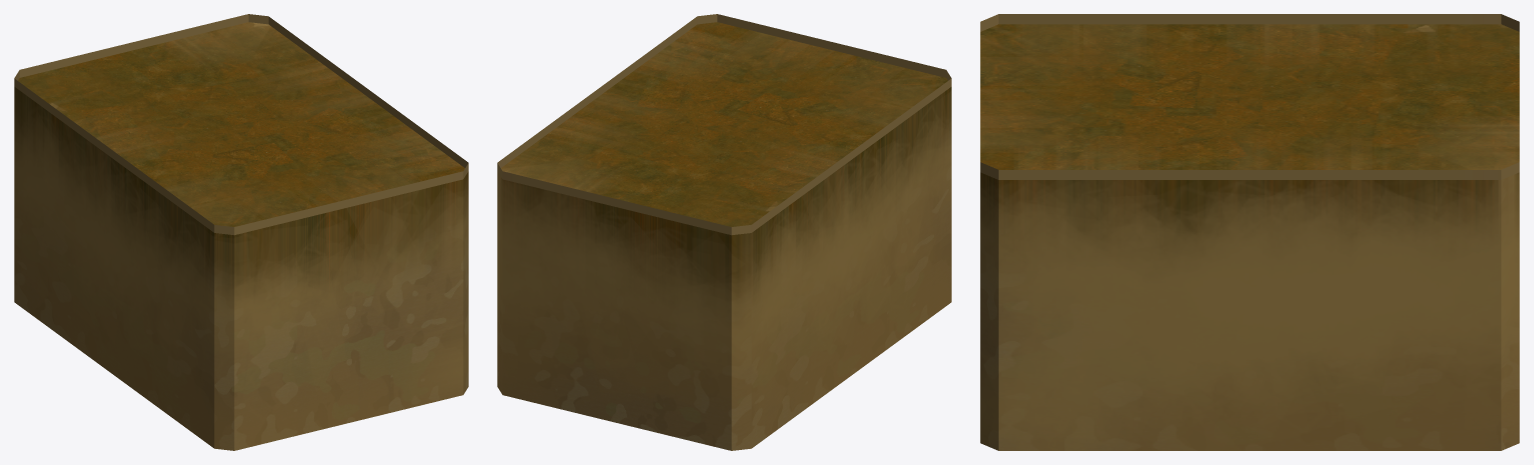
File: BLocaoDeAreia.fbx
3 renders of one model, left to right at view 1: azimuth 30°, elevation 25°; view 2: azimuth 150°, elevation 25°; view 3: azimuth 270°, elevation 25°, orthographic. The views are drawn at different scales.
Parts seen in each view (by area): view 1: pCube1; view 2: pCube1; view 3: pCube1.
Boxes of the visible parts, bbox=[...] form: pCube1: bbox=[14, 14, 468, 450]; pCube1: bbox=[497, 14, 951, 450]; pCube1: bbox=[980, 14, 1519, 450].
Bounding box in the file's own units: 5.62 × 4.73 × 8.22.
Materials: 1 (1 with a texture image).
